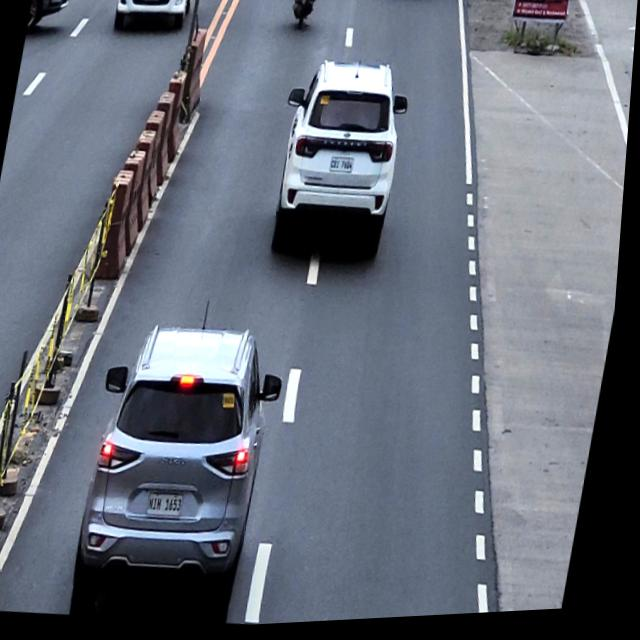Car: (70, 315, 299, 634), (263, 52, 418, 279), (109, 0, 196, 41), (26, 0, 73, 39)
License-Plate: (153, 491, 193, 525), (330, 158, 359, 180), (140, 0, 161, 3), (299, 0, 311, 0)
Motorcycle: (286, 0, 323, 31)
